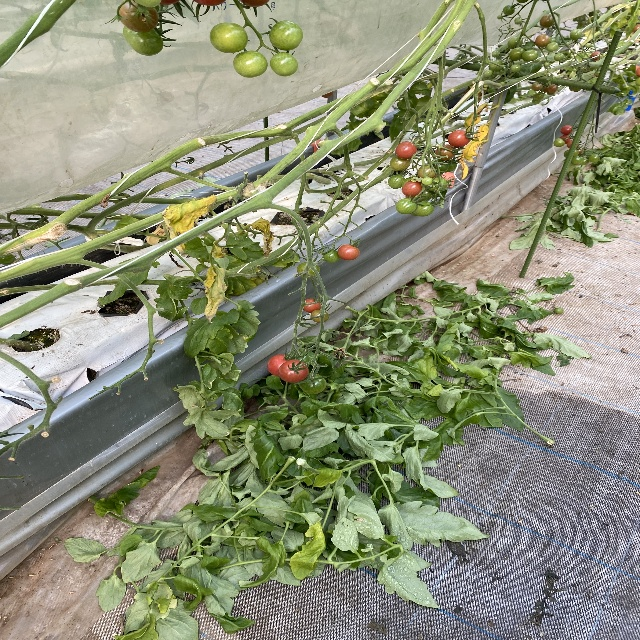l_fully_ripened: (279, 359, 309, 383), (268, 354, 294, 377), (395, 141, 417, 159), (448, 130, 471, 147), (402, 180, 423, 197), (302, 299, 321, 313), (560, 125, 573, 135), (559, 135, 570, 144)
l_green: (122, 26, 163, 56), (210, 22, 248, 53), (269, 20, 303, 51), (233, 50, 268, 79), (269, 52, 298, 77), (298, 372, 327, 394), (297, 262, 320, 279), (390, 155, 411, 171), (396, 198, 417, 214), (291, 352, 311, 368), (414, 201, 434, 217), (428, 176, 448, 192), (323, 250, 342, 263), (388, 175, 405, 189), (311, 310, 329, 323), (433, 160, 449, 174), (509, 47, 525, 61), (135, 0, 162, 8), (522, 49, 538, 62), (443, 159, 458, 172), (507, 37, 523, 49), (502, 5, 515, 16), (546, 42, 559, 52), (570, 29, 582, 39), (421, 177, 433, 186), (553, 138, 565, 147), (571, 155, 583, 164), (589, 154, 600, 163)
l_half_ripened: (118, 0, 159, 32), (338, 244, 360, 260), (435, 144, 456, 160), (417, 164, 436, 179), (535, 34, 550, 47), (540, 14, 554, 27)
